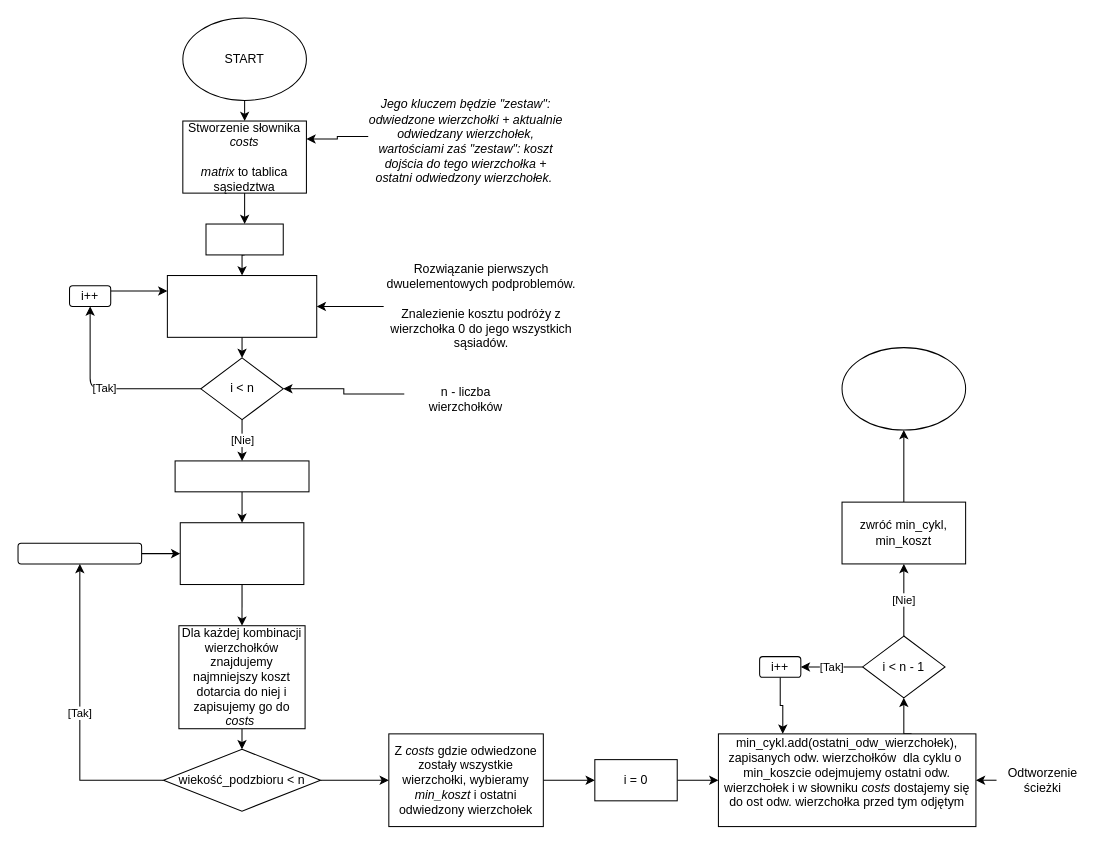
Image size: 1107x845. Some labels were removed from this diagram. The shapes that lost their labels are listed below. From the top down, each one's centre as x and y in pixels, then its label:
At pixel 244 239: "i = 1".
At pixel 241 305: "costs[(odw_wierzch, i)] = (matrix[0][i], 0)".
At pixel 903 388: "STOP".
At pixel 241 476: "wielkość_podzbioru = 2".
At pixel 79 553: "wielkość_podzbioru++".
At pixel 241 553: "Generacja wszystkich możliwych kombinacji o wielkości wielkość_podzbioru".
